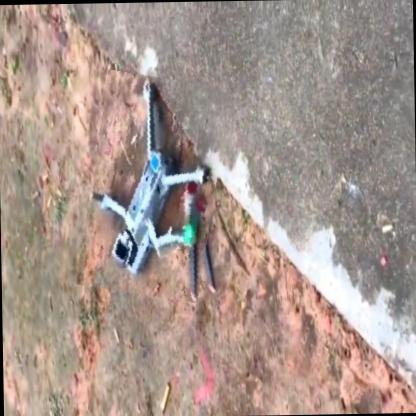drone: (81, 72, 225, 300)
